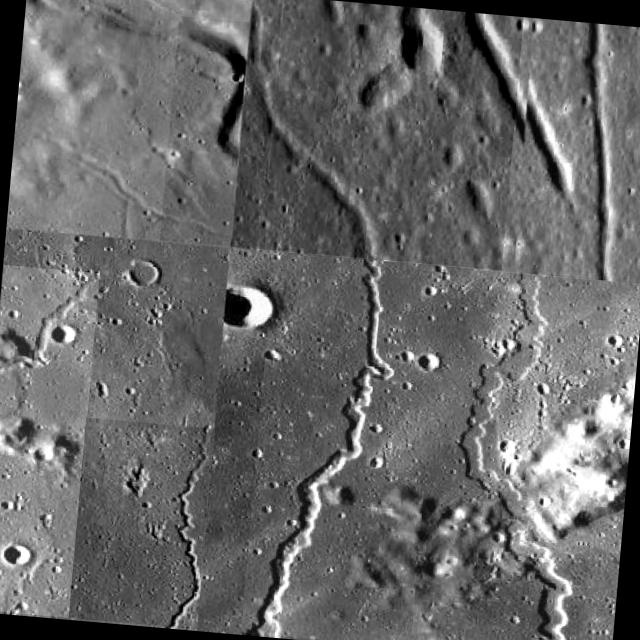crater: (242, 251, 614, 640), (232, 0, 524, 270), (440, 268, 640, 640), (361, 3, 590, 202), (0, 265, 101, 618), (69, 416, 215, 628), (548, 21, 640, 282), (160, 16, 250, 246)
